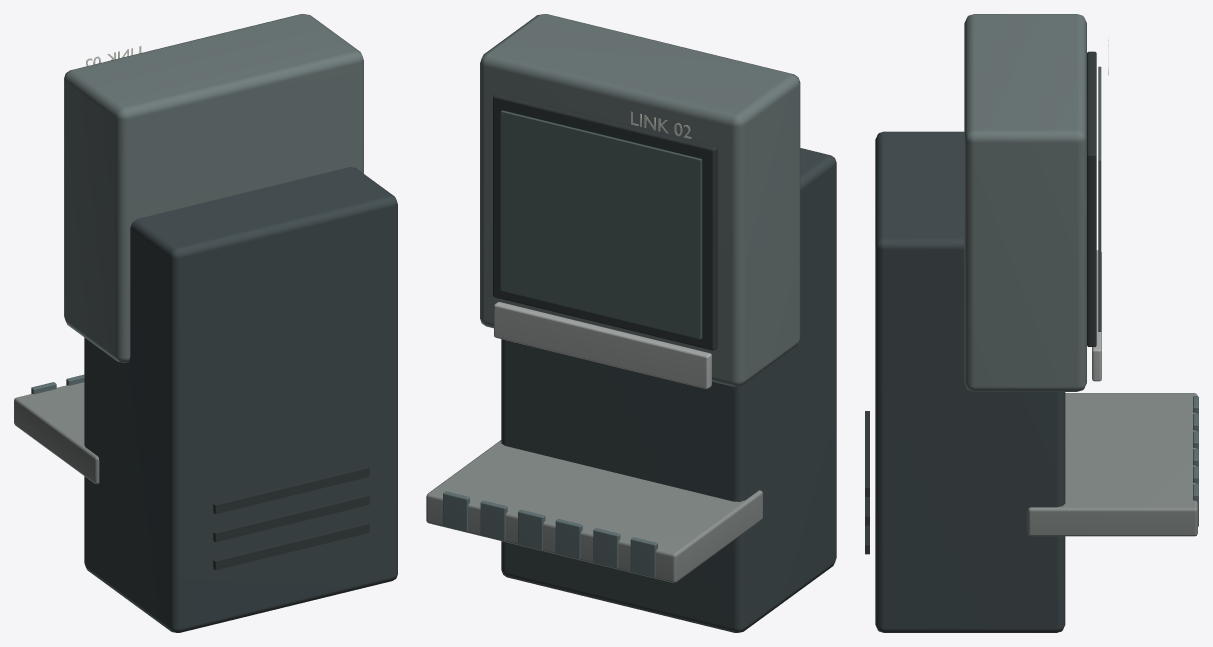
Rendered from terminal_housing.glb.
The picture shows the model from 3 angles, left to right: view 1: azimuth 30°, elevation 25°; view 2: azimuth 150°, elevation 25°; view 3: azimuth 270°, elevation 25°; orthographic projection. The views are drawn at different scales.
Visible parts, largest first — view 1: VIS_terminal_housing_pedestal, VIS_terminal_housing_screen_shell, VIS_terminal_housing_keyboard_shelf, VIS_terminal_housing_rear_vent_-0.56, VIS_terminal_housing_rear_vent_-0.48, VIS_terminal_housing_rear_vent_-0.4; view 2: VIS_terminal_housing_pedestal, VIS_terminal_housing_screen_shell, VIS_terminal_housing_screen_glass, VIS_terminal_housing_keyboard_shelf, VIS_terminal_housing_screen_gasket, VIS_terminal_housing_screen_bezel_lower, VIS_terminal_housing_key_1, VIS_terminal_housing_key_2, VIS_terminal_housing_key_0, VIS_terminal_housing_key_4, VIS_terminal_housing_key_3, VIS_terminal_housing_key_5; view 3: VIS_terminal_housing_pedestal, VIS_terminal_housing_screen_shell, VIS_terminal_housing_keyboard_shelf, VIS_terminal_housing_screen_gasket, VIS_terminal_housing_screen_glass, VIS_terminal_housing_screen_bezel_lower.
Boxes of the visible parts, x1,y1,x2,y2 form: VIS_terminal_housing_pedestal: (84,167,397,632); VIS_terminal_housing_screen_shell: (64,14,363,362); VIS_terminal_housing_keyboard_shelf: (14,382,99,484); VIS_terminal_housing_rear_vent_-0.56: (213,522,369,570); VIS_terminal_housing_rear_vent_-0.48: (213,494,369,542); VIS_terminal_housing_rear_vent_-0.4: (213,466,369,514); VIS_terminal_housing_pedestal: (501,148,836,632); VIS_terminal_housing_screen_shell: (480,14,800,386); VIS_terminal_housing_screen_glass: (500,110,702,339); VIS_terminal_housing_keyboard_shelf: (426,440,762,582); VIS_terminal_housing_screen_gasket: (493,93,717,350); VIS_terminal_housing_screen_bezel_lower: (494,302,711,388); VIS_terminal_housing_key_1: (593,528,620,568); VIS_terminal_housing_key_2: (555,519,582,559); VIS_terminal_housing_key_0: (630,537,657,577); VIS_terminal_housing_key_4: (480,500,507,541); VIS_terminal_housing_key_3: (518,509,545,550); VIS_terminal_housing_key_5: (443,491,469,531); VIS_terminal_housing_pedestal: (875,131,1065,632); VIS_terminal_housing_screen_shell: (964,14,1086,391); VIS_terminal_housing_keyboard_shelf: (1027,393,1197,536); VIS_terminal_housing_screen_gasket: (1087,51,1096,346); VIS_terminal_housing_screen_glass: (1098,66,1101,331); VIS_terminal_housing_screen_bezel_lower: (1092,250,1101,381).
Size of the model in its own units: 0.74 by 1.42 by 0.8435.
